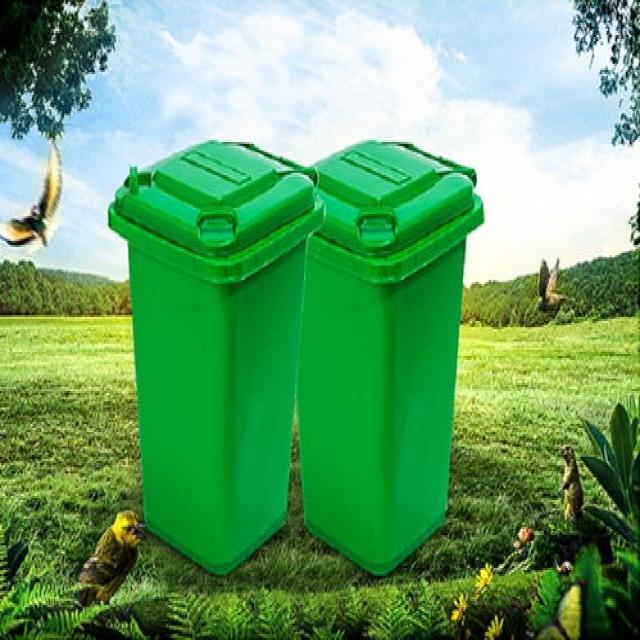garbage_bin: (106, 138, 324, 574), (295, 136, 482, 574)
